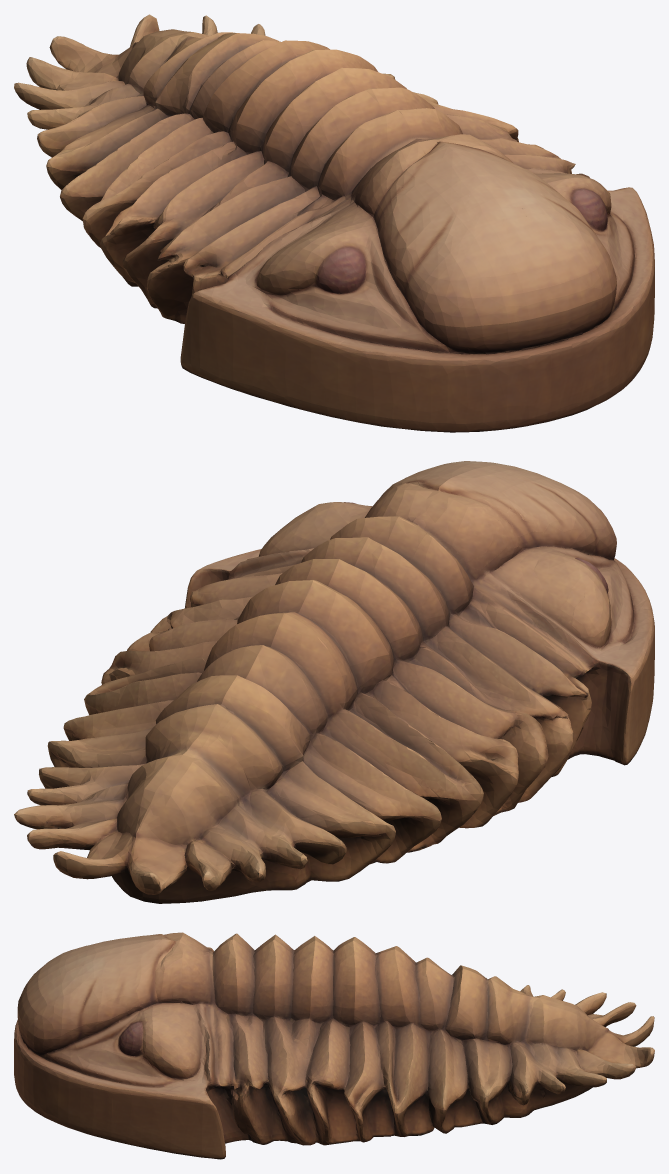
3 renders of one model, top to bottom at view 1: azimuth 30°, elevation 25°; view 2: azimuth 150°, elevation 25°; view 3: azimuth 270°, elevation 25°, orthographic. The views are drawn at different scales.
Visible parts, largest first — view 1: world; view 2: world; view 3: world.
Part boxes in pixels (x1,y1,x2,y2): world: (14,14,654,432); world: (14,461,654,903); world: (14,932,654,1159).
Size of the model in its own units: 0.5751 by 0.249 by 1.
1 material, 1 textured.
